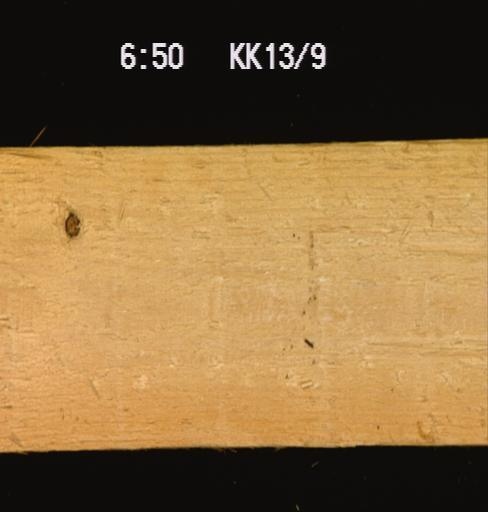dry_knot: (61, 208, 81, 238)
